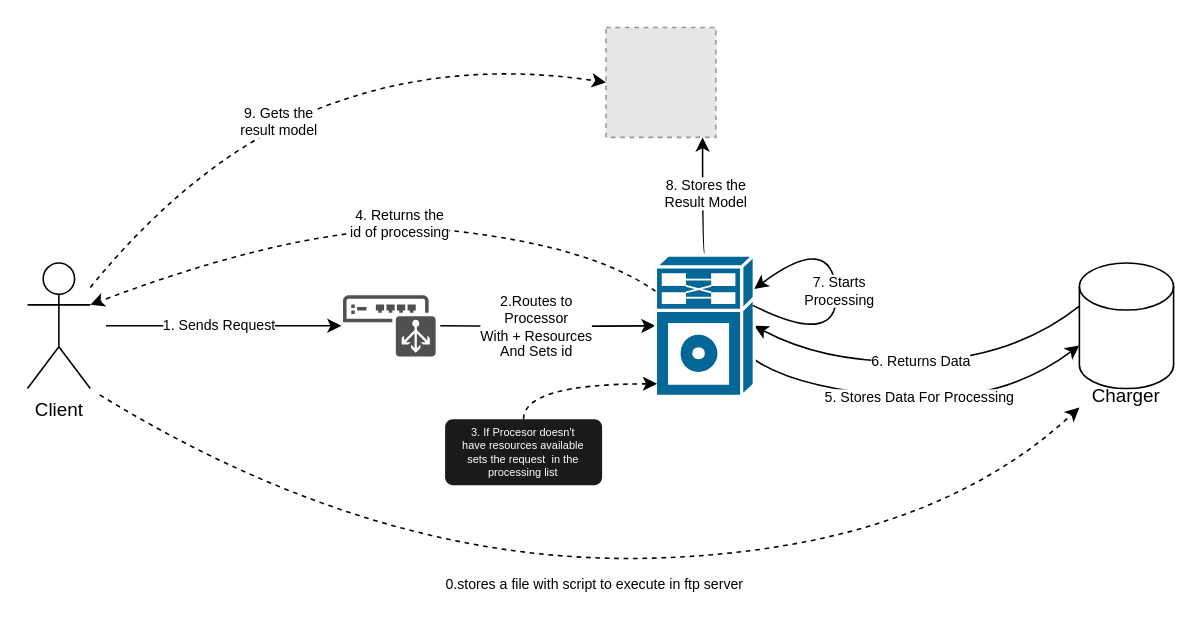
Image size: 1201x622. Some labels were removed from this diagram. Grey dashed boxes stand in for pictures. Here are the shapes that lost their labels. From the top down, the box of each, then its label:
(342, 294, 435, 356): Stabilizer
(653, 253, 755, 397): Processor
